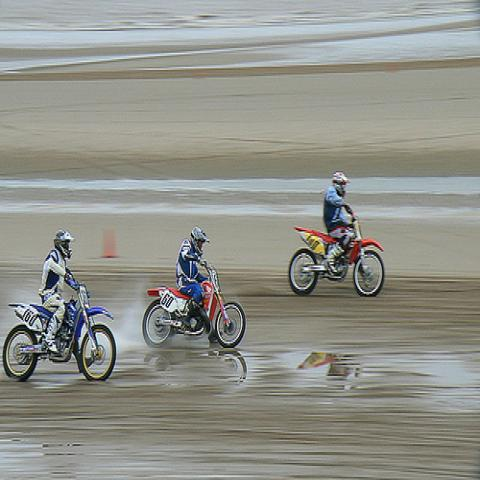motorcycle: (2, 284, 117, 382), (287, 210, 386, 300), (144, 266, 246, 353)
